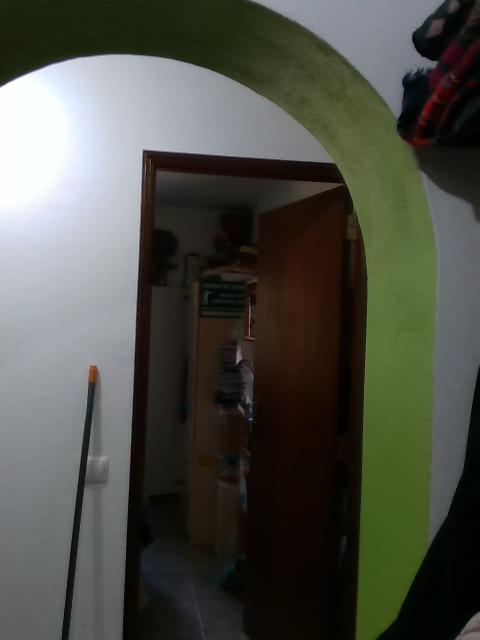open_door: (120, 147, 369, 638)
